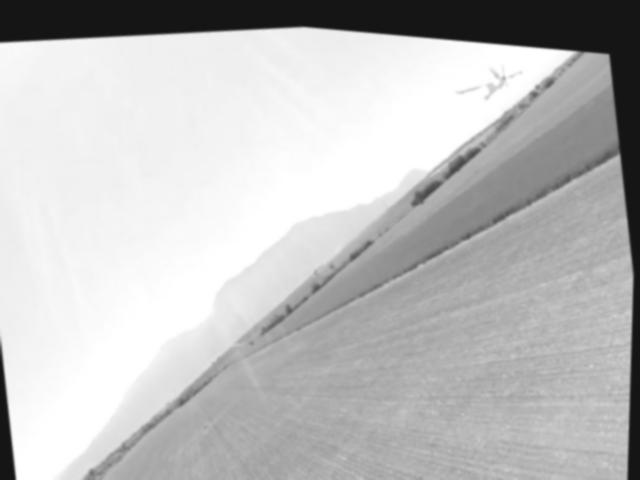hedef: (446, 38, 535, 108)
